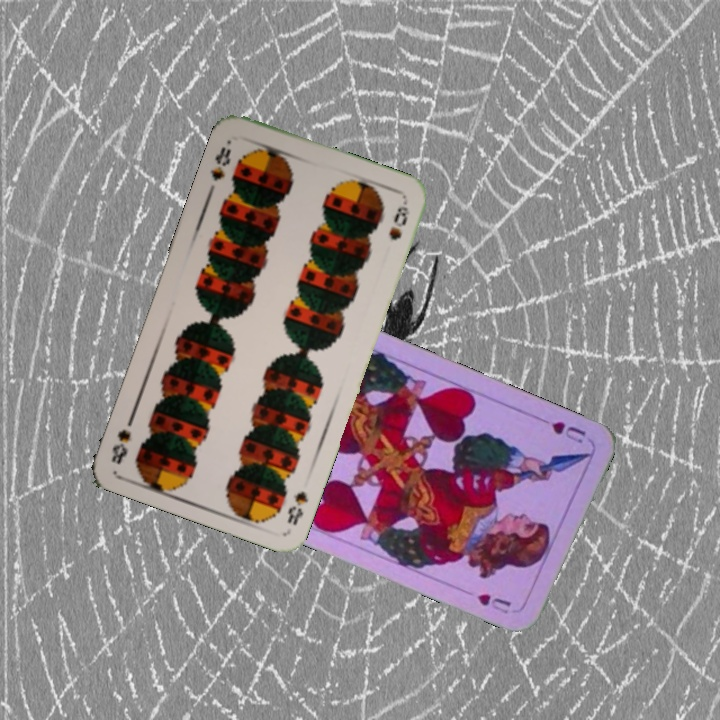HU: (547, 417, 589, 446)
S8: (206, 142, 234, 184), (283, 487, 311, 528)
